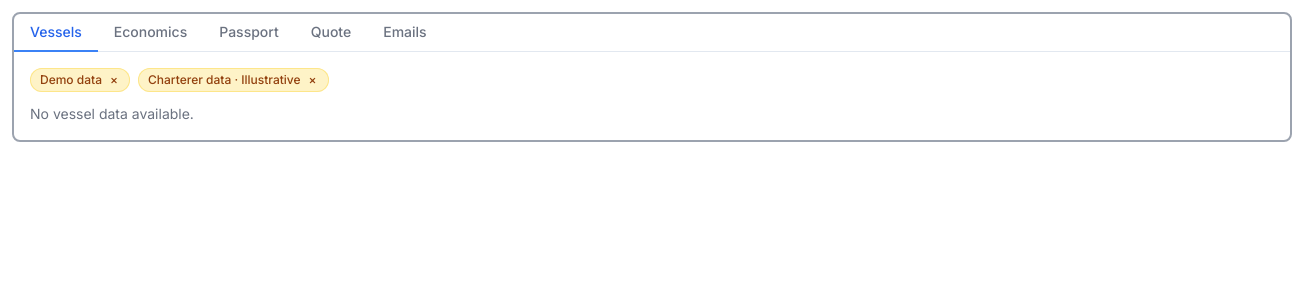
Test: MatchTabs › Generate button in Quote tab (fix #638) › is enabled when cargoEmailId prop is passed
Click the tab "Quote" at (331, 33), box [295,14,367,52]
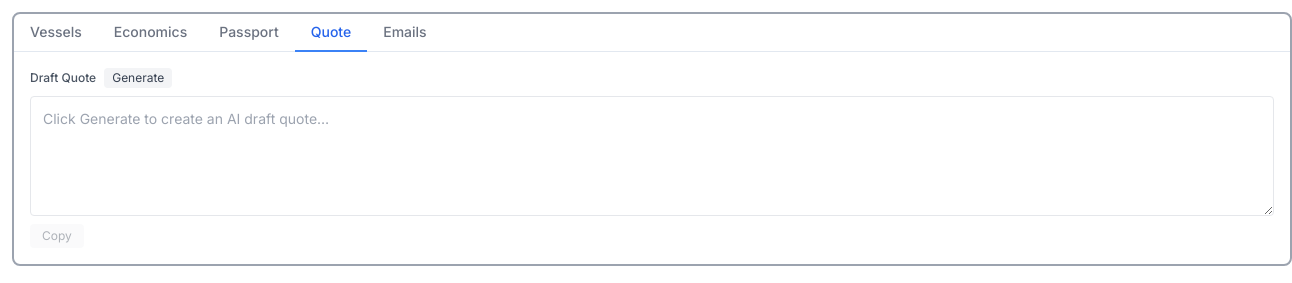
Check: the button "Generate" is enabled, box [104,68,172,88]
